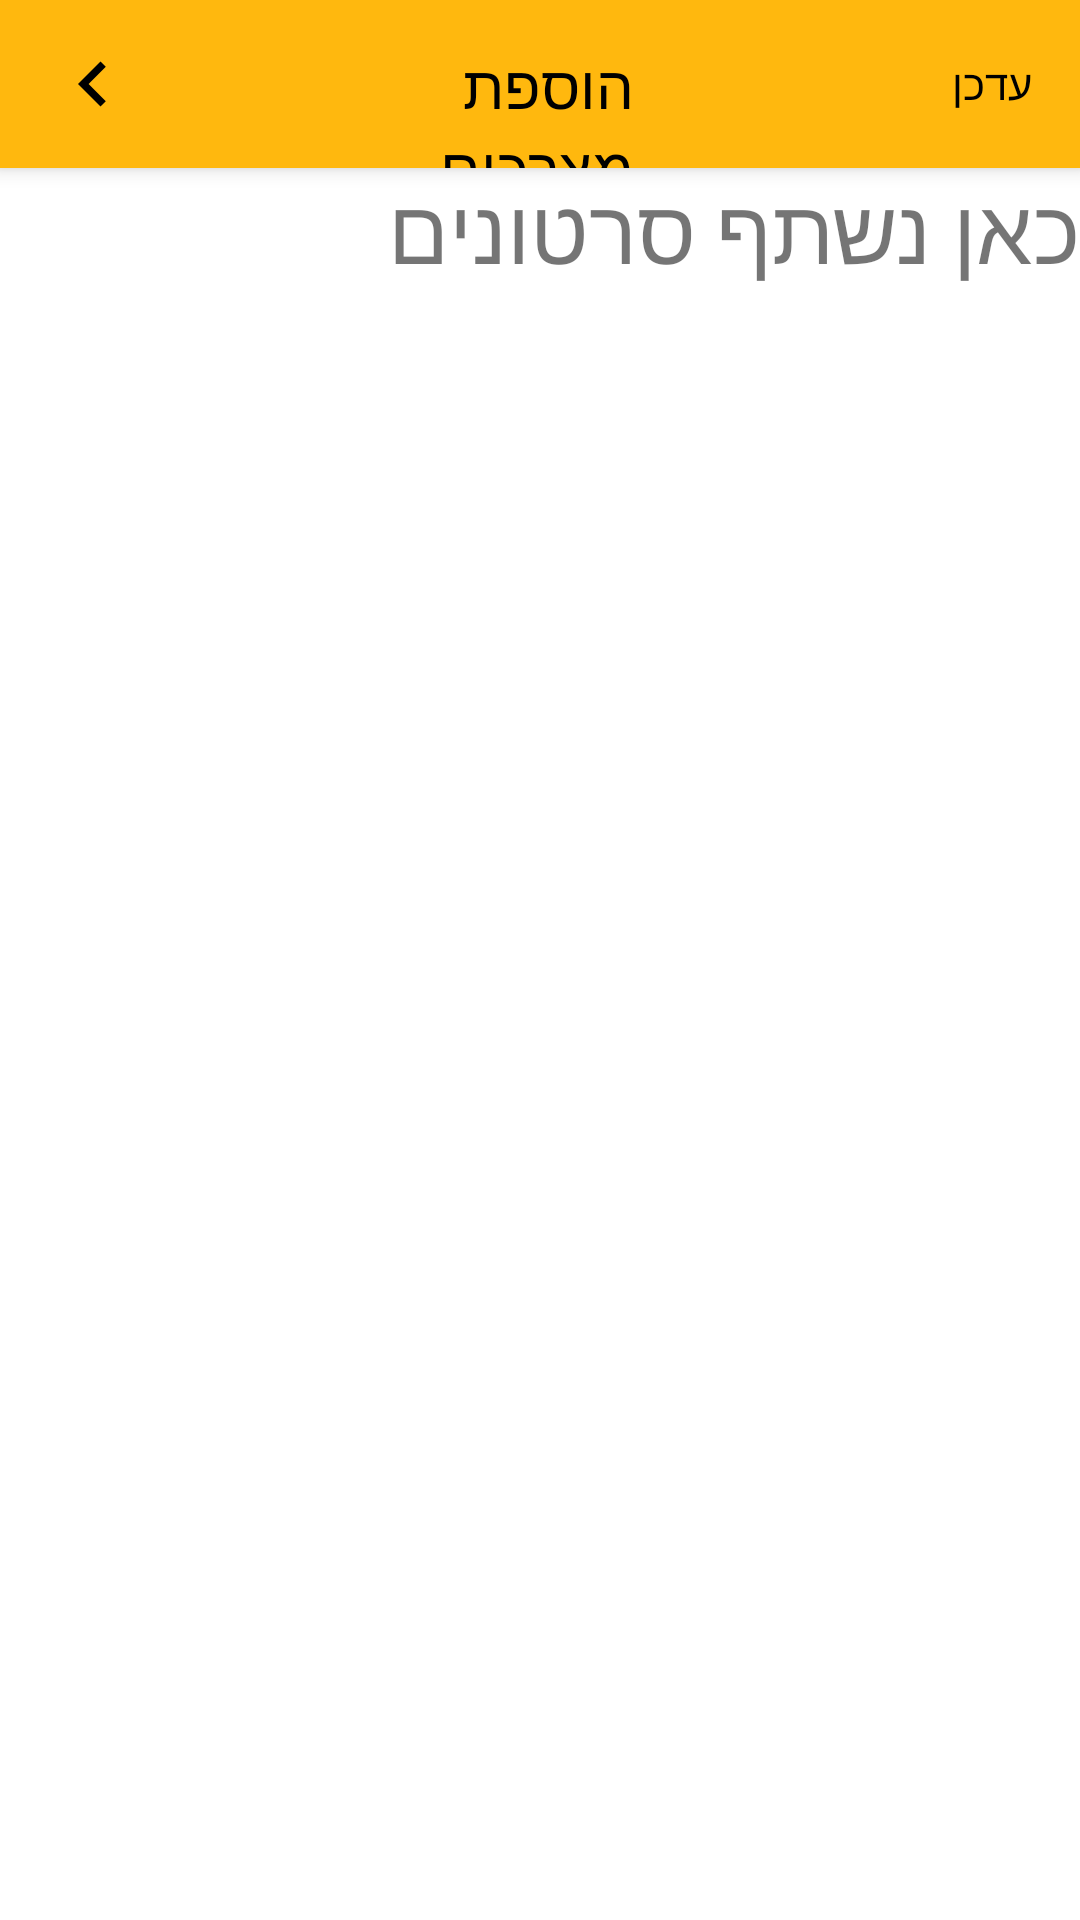

Screen size 1080 x 1920. Icon name, then its box in pixels as (left=x1, top=y1, right=x2, bottom=y2):
chevron left: (left=78, top=61, right=106, bottom=107)
